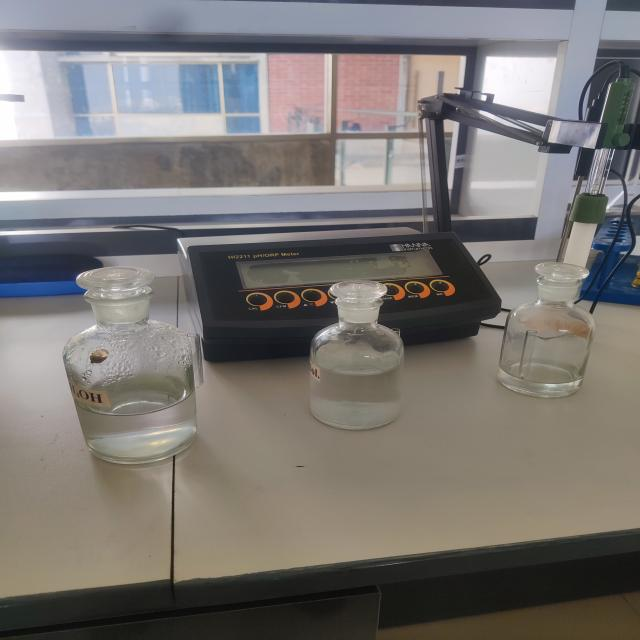Reagent_Bottle: (3, 238, 244, 494), (284, 256, 434, 458), (470, 224, 618, 416)
